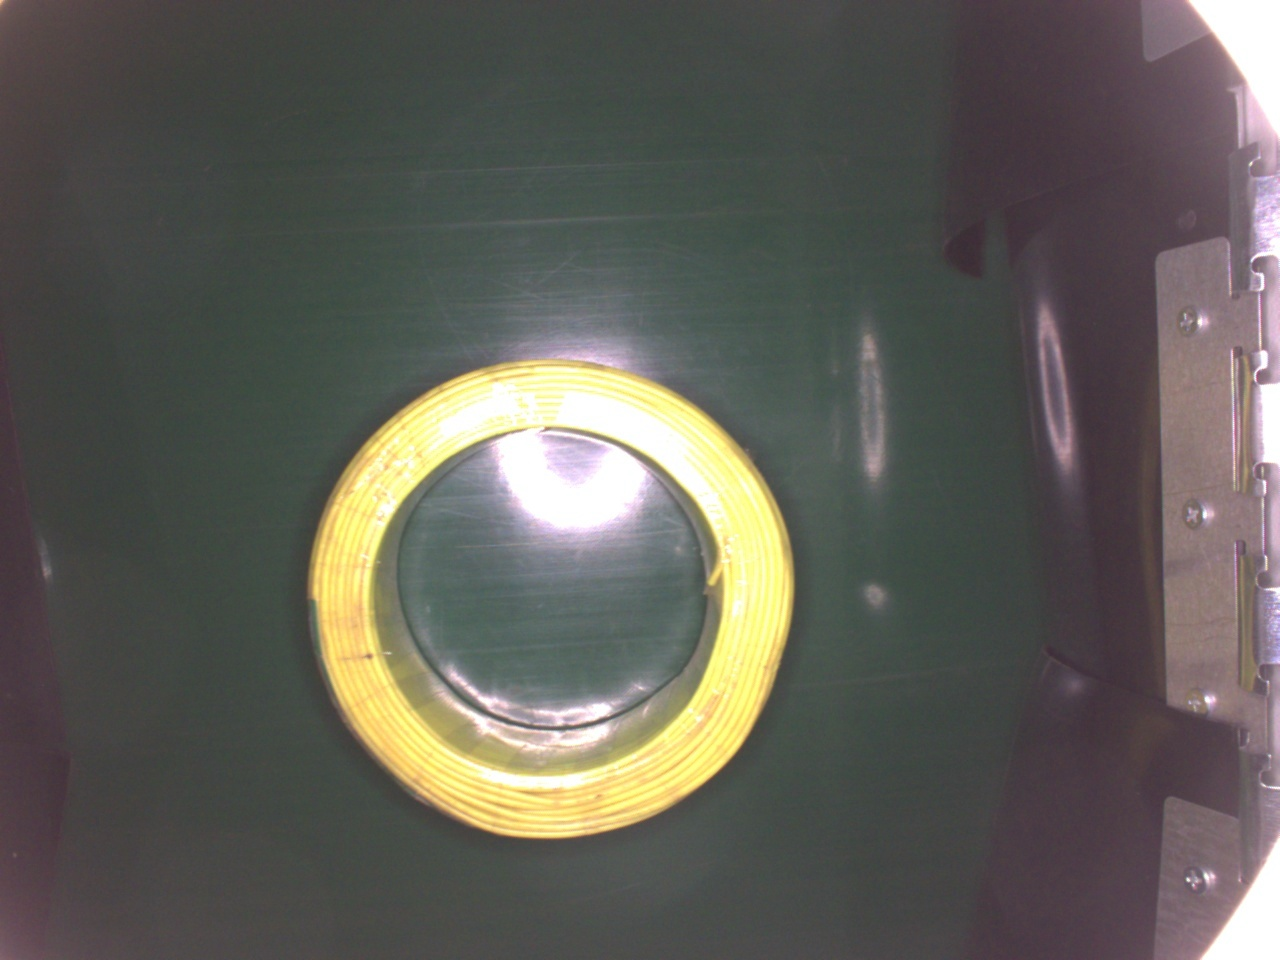yellow: (299, 356, 790, 847)
